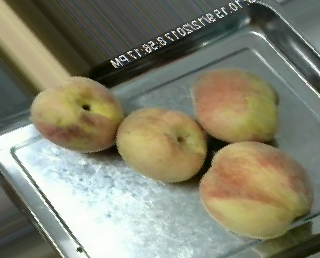Peach: (199, 141, 311, 240), (114, 106, 209, 183), (30, 77, 123, 151), (193, 66, 281, 143)
